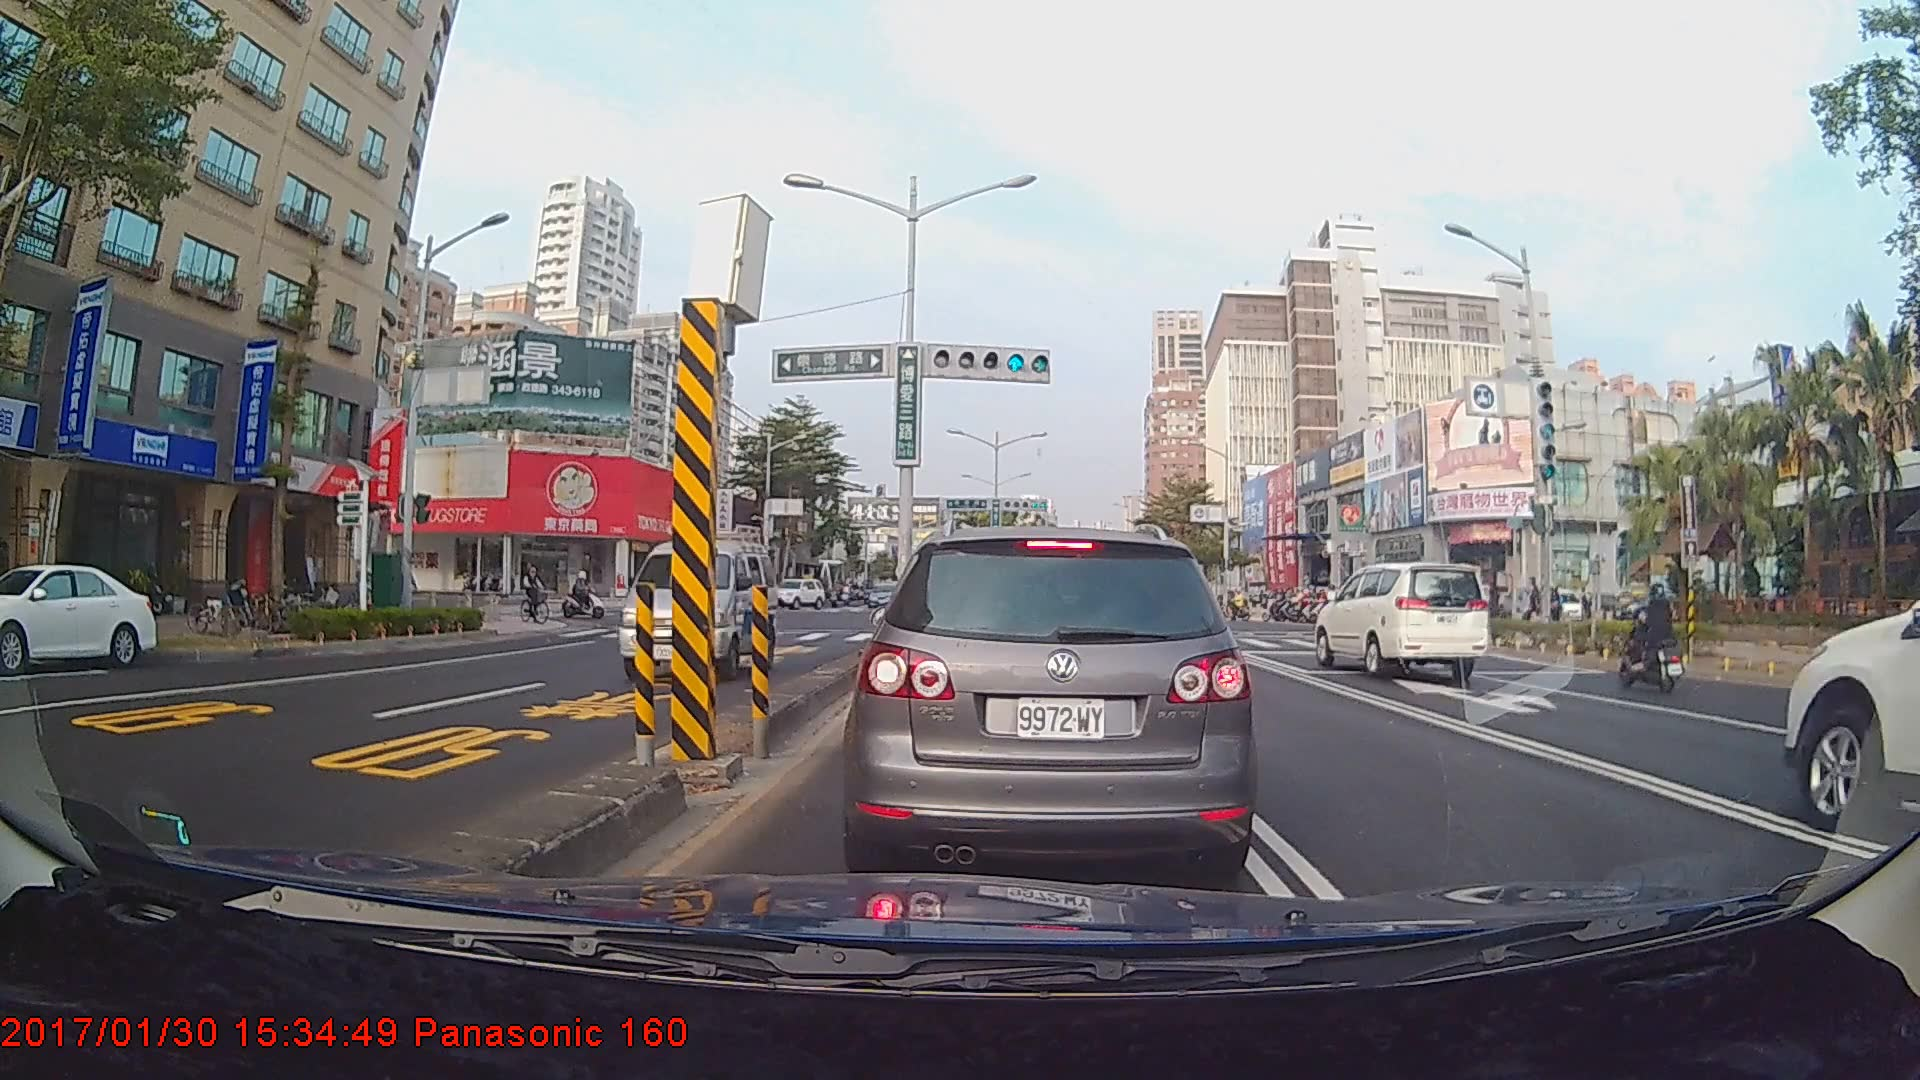pedestrian: (1487, 579, 1508, 637)
rider: (1613, 584, 1689, 693), (563, 568, 614, 625), (518, 559, 555, 629)
vehicle: (853, 521, 1253, 875), (616, 524, 780, 680), (1310, 561, 1491, 679), (0, 561, 158, 671), (866, 579, 903, 608)
